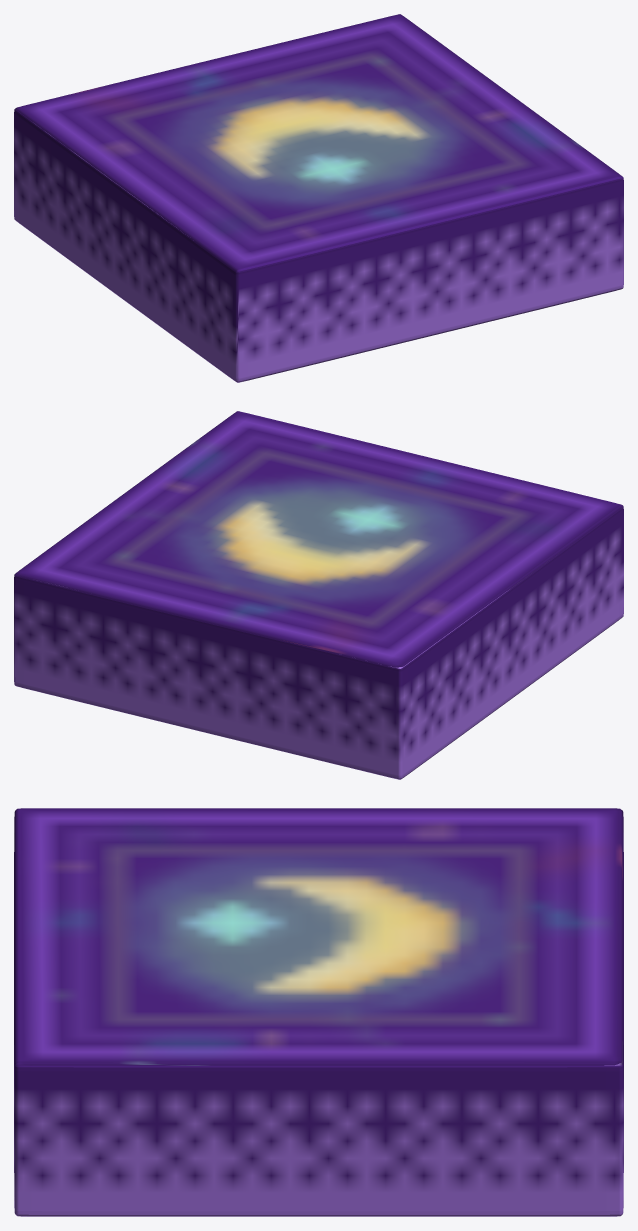
Rendered from PixelTileMagic.fbx.
3 renders of one model, top to bottom at view 1: azimuth 30°, elevation 25°; view 2: azimuth 150°, elevation 25°; view 3: azimuth 270°, elevation 25°, orthographic. The views are drawn at different scales.
Parts seen in each view (by area): view 1: PixelBasic; view 2: PixelBasic; view 3: PixelBasic.
Boxes of the visible parts, x1,y1,x2,y2 form: PixelBasic: (14, 14, 623, 382); PixelBasic: (14, 411, 623, 779); PixelBasic: (14, 808, 623, 1216).
Bounding box in the file's own units: 99.99 × 28.04 × 99.99.
1 material, 1 textured.
